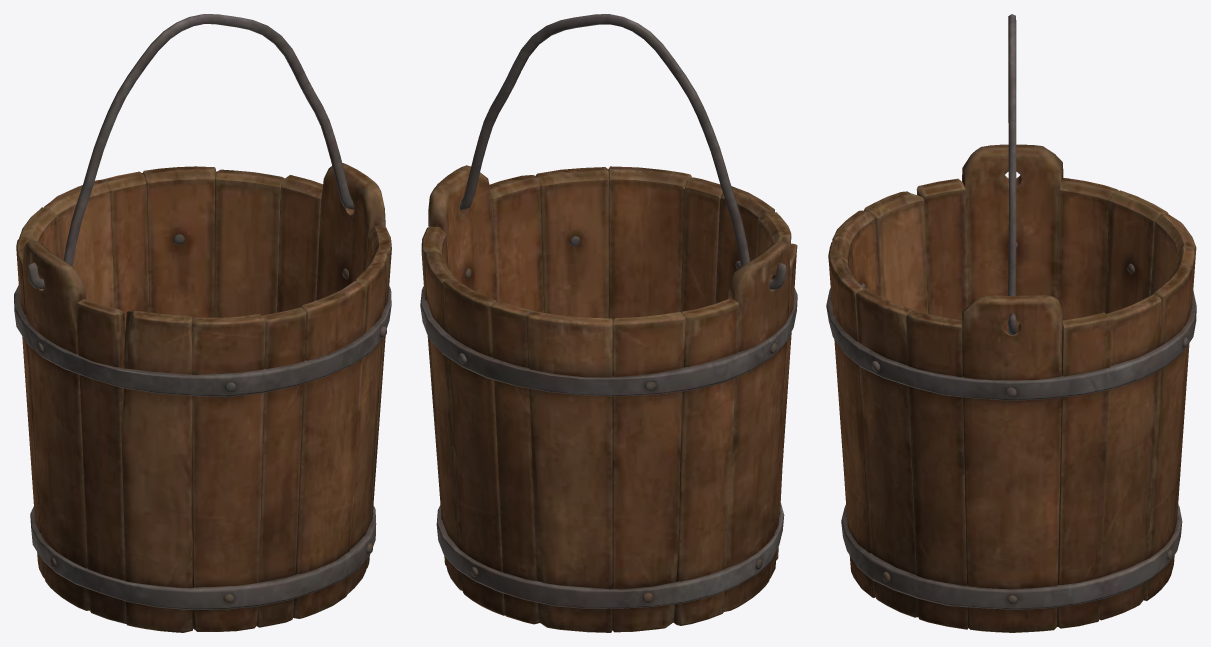
Rendered from wooden_bucket_01.glb.
3 renders of one model, left to right at view 1: azimuth 30°, elevation 25°; view 2: azimuth 150°, elevation 25°; view 3: azimuth 270°, elevation 25°, orthographic.
Visible parts, largest first — view 1: wooden_bucket_01, wooden_bucket_01_handle; view 2: wooden_bucket_01, wooden_bucket_01_handle; view 3: wooden_bucket_01, wooden_bucket_01_handle.
Boxes of the visible parts, x1,y1,x2,y2 form: wooden_bucket_01: (14, 163, 391, 632); wooden_bucket_01_handle: (27, 14, 354, 289); wooden_bucket_01: (420, 165, 797, 632); wooden_bucket_01_handle: (437, 14, 786, 289); wooden_bucket_01: (826, 144, 1196, 632); wooden_bucket_01_handle: (1008, 14, 1016, 335).
Size of the model in its own units: 0.367 by 0.5499 by 0.3422.
1 material, 1 textured.
